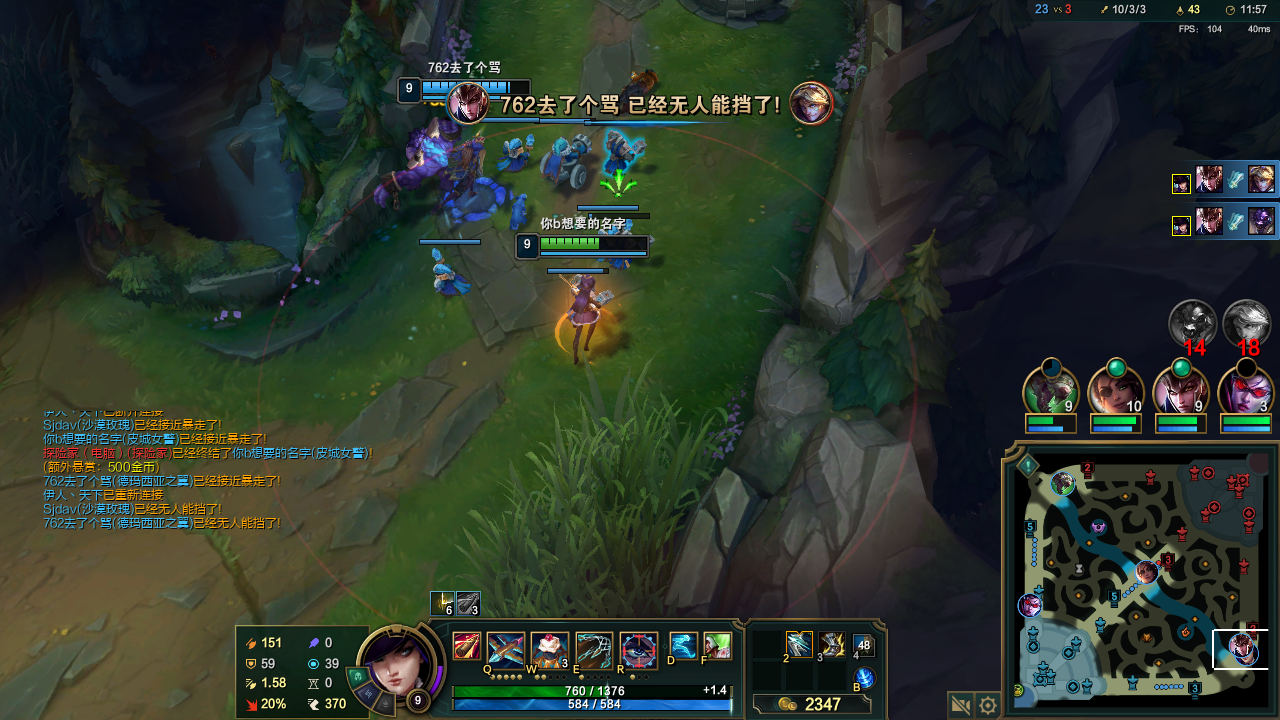KF: (789, 633, 810, 653)
WFXB: (540, 139, 584, 189), (427, 256, 468, 294), (601, 133, 636, 170), (500, 136, 533, 169)
